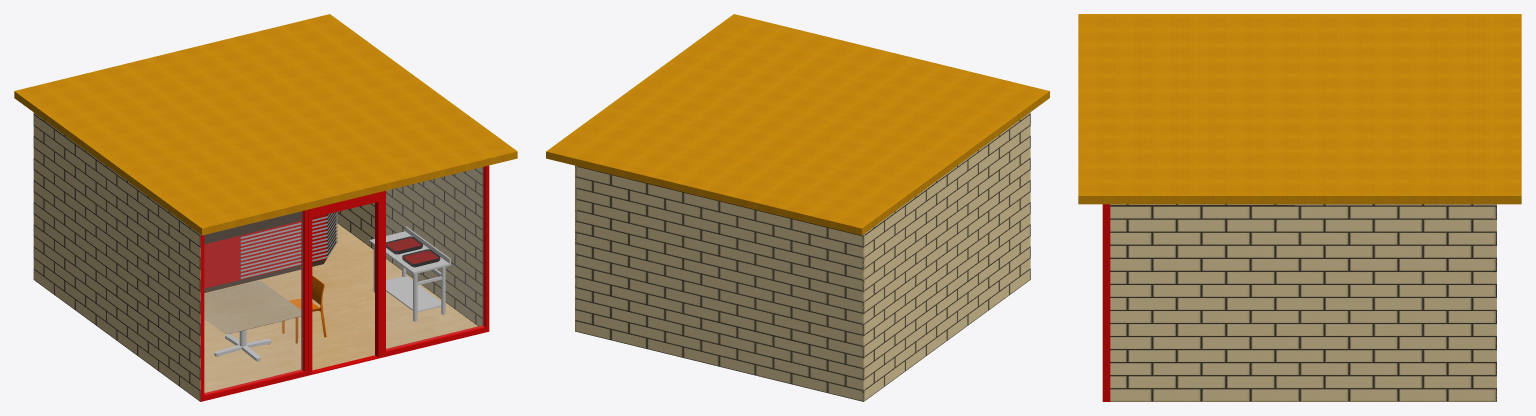
The model's file is ALL.gltf.
The picture shows the model from 3 angles, left to right: view 1: azimuth 30°, elevation 25°; view 2: azimuth 150°, elevation 25°; view 3: azimuth 270°, elevation 25°; orthographic projection. The views are drawn at different scales.
Parts seen in each view (by area): view 1: node_Ceiling_13816, node_Windows_13774, node_Wall (2)_13782, node_Plane_13820, node_Wall (1)_13746, node_Group_006_-1394, node_Table_13770, node_Metallic table_13862, node_Chair_13794; view 2: node_Ceiling_13816, node_Wall (3)_13844, node_Wall (2)_13782, node_Wall (1)_13746; view 3: node_Ceiling_13816, node_Wall (1)_13746, node_Windows_13774.
Boxes of the visible parts, x1,y1,x2,y2 form: node_Ceiling_13816: [14, 14, 517, 235]; node_Windows_13774: [200, 165, 489, 401]; node_Wall (2)_13782: [33, 112, 200, 401]; node_Plane_13820: [204, 222, 477, 392]; node_Wall (1)_13746: [336, 167, 482, 326]; node_Group_006_-1394: [204, 211, 336, 292]; node_Table_13770: [204, 281, 301, 361]; node_Metallic table_13862: [369, 226, 450, 321]; node_Chair_13794: [282, 275, 326, 343]; node_Ceiling_13816: [546, 14, 1049, 235]; node_Wall (3)_13844: [575, 166, 865, 401]; node_Wall (2)_13782: [861, 112, 1030, 401]; node_Wall (1)_13746: [575, 165, 577, 331]; node_Ceiling_13816: [1078, 14, 1521, 204]; node_Wall (1)_13746: [1110, 204, 1496, 401]; node_Windows_13774: [1102, 204, 1110, 401].
Size of the model in its own units: 5.47 by 3.03 by 5.63.
Materials: 26 (12 with a texture image).
